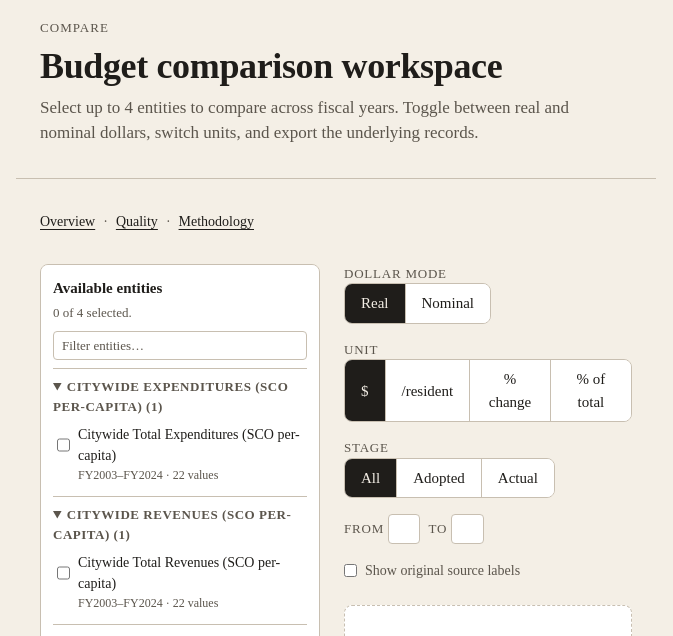
Test: Compare route › selects an entity and shows it as a chip with the chart
The width and height of the screenshot is (673, 636).
What coordinates should you click on to do the following:
click the checkbox named "Citywide Total Expenditures (SCO per-capita), FY2003–FY2024,"
I would click on:
 (64, 445)
Its box is 57,424 -> 70,466.
(page scrolled)
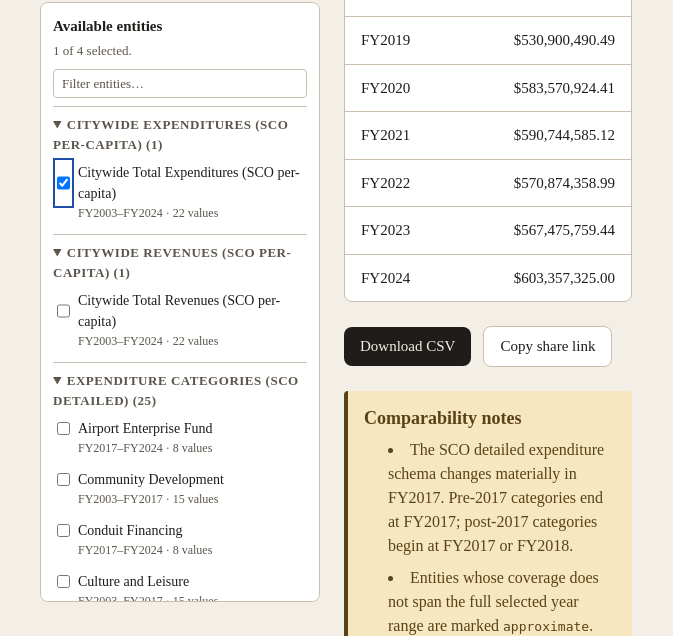
Check: the button "Download CSV" is shown, box 344,327 -> 471,366
